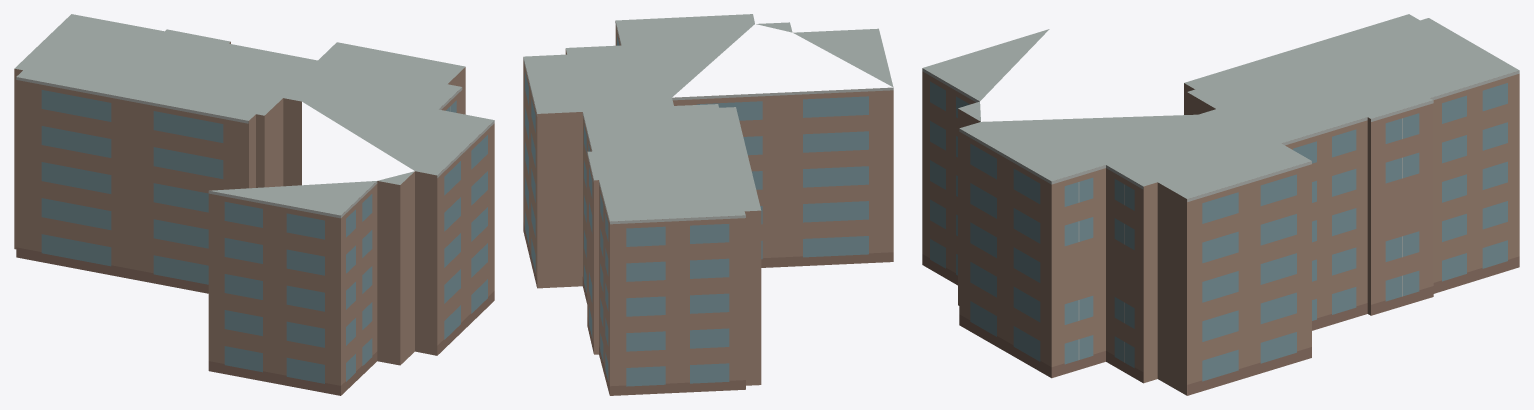
The model's file is survey-upis-32538637.glb.
The picture shows the model from 3 angles, left to right: view 1: azimuth 30°, elevation 25°; view 2: azimuth 150°, elevation 25°; view 3: azimuth 270°, elevation 25°; orthographic projection. The views are drawn at different scales.
Parts seen in each view (by area): view 1: survey-upis-32538637.tmp; view 2: survey-upis-32538637.tmp; view 3: survey-upis-32538637.tmp.
Boxes of the visible parts, bbox=[...] form: survey-upis-32538637.tmp: bbox=[14, 14, 494, 395]; survey-upis-32538637.tmp: bbox=[523, 14, 893, 395]; survey-upis-32538637.tmp: bbox=[922, 14, 1519, 395].
Size of the model in its own units: 30.78 by 15.25 by 41.97.
